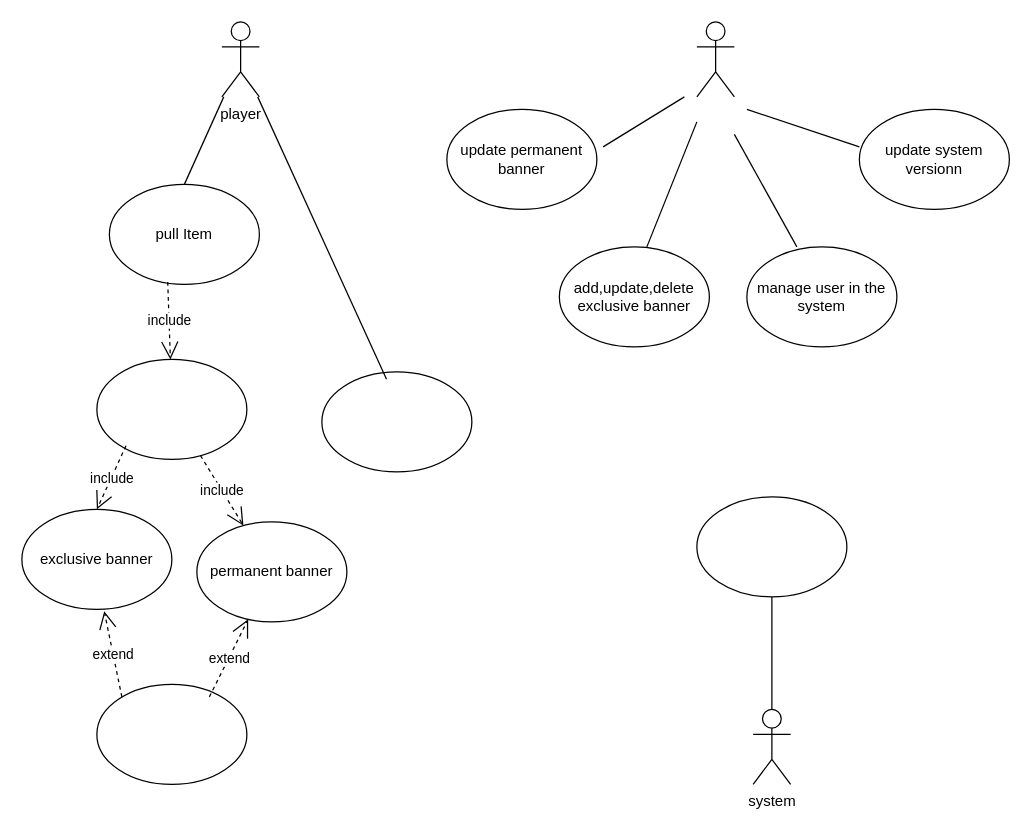
Image size: 1031x833. Some labels were removed from this diagram. The shapes that lost their labels are listed below. From the top down, each one's centre as x and y in pixels, then its label:
At (715,59): "Admin".
At (171,408): "pull counter increased".
At (396,421): "pity system".
At (771,546): "base user".
At (171,733): "history of pulls".
